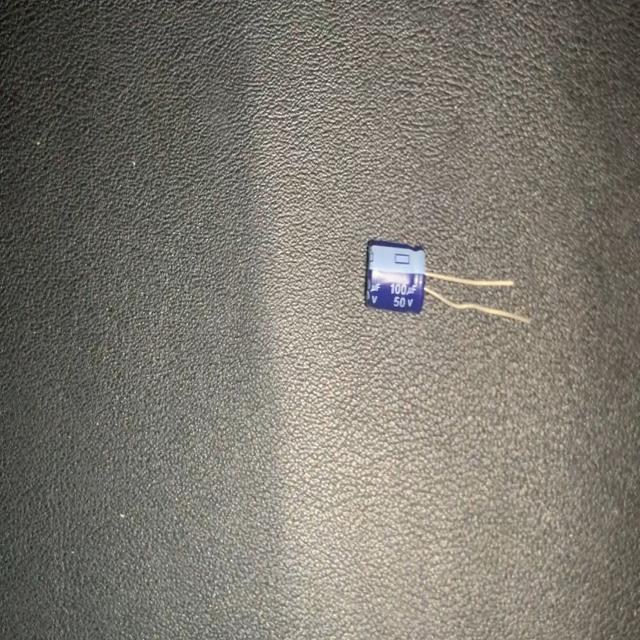capacitor: (362, 236, 533, 325)
